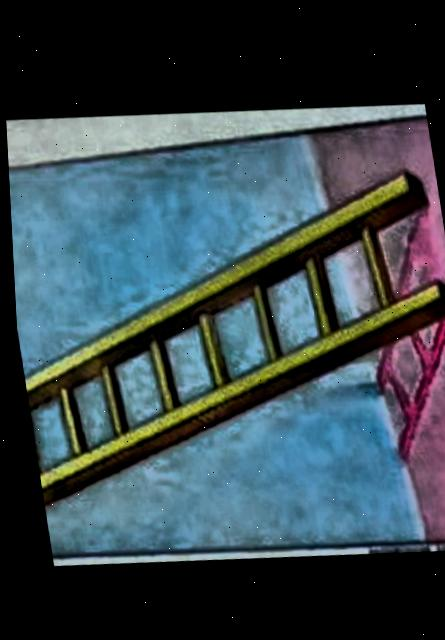La Escalera: (7, 113, 445, 561)
